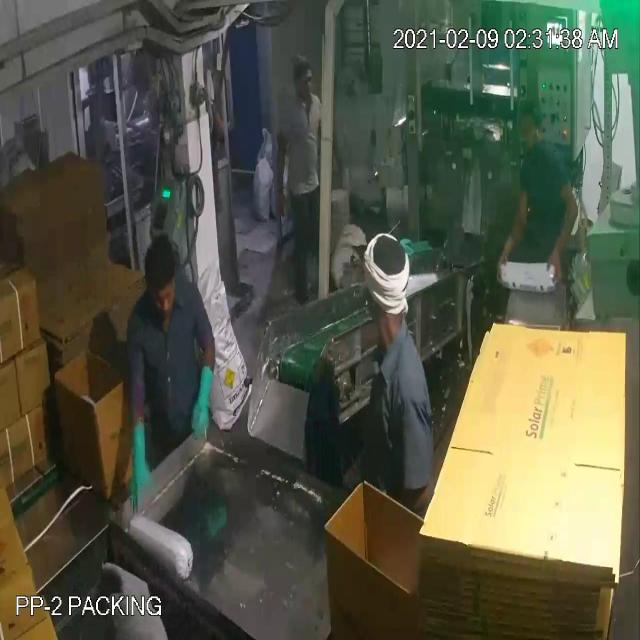gloves: (115, 386, 164, 538), (182, 342, 220, 453)
no-gloves: (540, 174, 586, 300), (260, 116, 304, 233), (500, 180, 534, 279)
